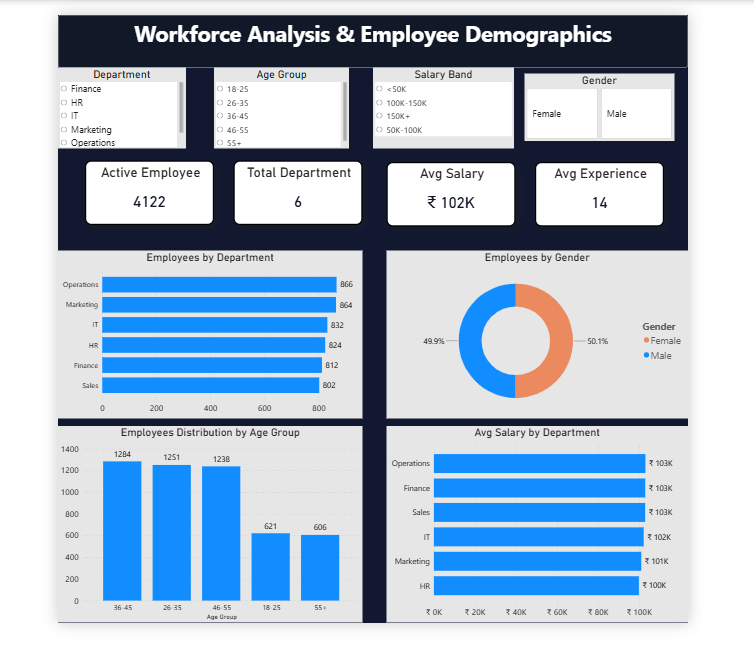

What the dashboard file says about the page in this screenshot:
{"tool":"powerbi","page":{"name":"Page 3","canvas":[1400,1350],"ordinal":2},"visuals":[{"type":"card","title":"Active Employee","fields":{"Values":["HR_Data.Active Employee"]},"box":[60,323.3,286.7,143.3],"z":0},{"type":"card","title":"Total Department","fields":{"Values":["HR_Data.total departments"]},"box":[390,323.3,286.7,143.3],"z":1000},{"type":"card","title":"Avg Salary","fields":{"Values":["HR_Data.Avg Salary"]},"box":[730,326.7,286.7,143.3],"z":2000},{"type":"card","title":"Avg Experience","fields":{"Values":["HR_Data.Avg Experience"]},"box":[1060,326.7,286.7,143.3],"z":3000},{"type":"textbox","box":[0,0,1400,116.7],"z":4000},{"type":"clusteredBarChart","title":"Employees by Department","fields":{"Category":["HR_Data.Department"],"Y":["HR_Data.total emp"]},"box":[0,523.3,676.7,373.3],"z":5000},{"type":"donutChart","title":"Employees by Gender","fields":{"Category":["HR_Data.Gender"],"Y":["HR_Data.total emp"]},"box":[730,523.3,670,373.3],"z":6000},{"type":"clusteredColumnChart","title":"Employees Distribution by Age Group","fields":{"Category":["HR_Data.Age Group"],"Y":["HR_Data.total emp"]},"box":[0,913.3,676.7,436.7],"z":7000},{"type":"barChart","fields":{"Category":["HR_Data.Department"],"Y":["HR_Data.Avg Salary"]},"box":[730,913.3,670,436.7],"z":8000},{"type":"listSlicer","fields":{"Values":["HR_Data.Department"]},"box":[0,116.7,283.3,180],"z":9000},{"type":"listSlicer","fields":{"Values":["HR_Data.Age Group"]},"box":[346.7,116.7,300,180],"z":10000},{"type":"listSlicer","fields":{"Values":["HR_Data.Salary Band"]},"box":[700,116.7,313.3,180],"z":11000},{"type":"advancedSlicerVisual","fields":{"Values":["HR_Data.Gender"]},"box":[1036.7,130,333.3,150],"z":12000}]}

Visuals, with their boxes in screenshot pixels (x1, y1, x2, y2):
"Active Employee" card: (x1=79, y1=160, x2=210, y2=225)
"Total Department" card: (x1=230, y1=160, x2=361, y2=225)
"Avg Salary" card: (x1=385, y1=161, x2=517, y2=227)
"Avg Experience" card: (x1=536, y1=161, x2=668, y2=227)
textbox: (x1=51, y1=12, x2=692, y2=65)
"Employees by Department" clusteredBarChart: (x1=51, y1=251, x2=361, y2=422)
"Employees by Gender" donutChart: (x1=385, y1=251, x2=692, y2=422)
"Employees Distribution by Age Group" clusteredColumnChart: (x1=51, y1=430, x2=361, y2=630)
barChart - HR_Data.Department x HR_Data.Avg Salary: (x1=385, y1=430, x2=692, y2=630)
listSlicer - HR_Data.Department: (x1=51, y1=65, x2=181, y2=148)
listSlicer - HR_Data.Age Group: (x1=210, y1=65, x2=347, y2=148)
listSlicer - HR_Data.Salary Band: (x1=372, y1=65, x2=515, y2=148)
advancedSlicerVisual - HR_Data.Gender: (x1=526, y1=71, x2=678, y2=140)
